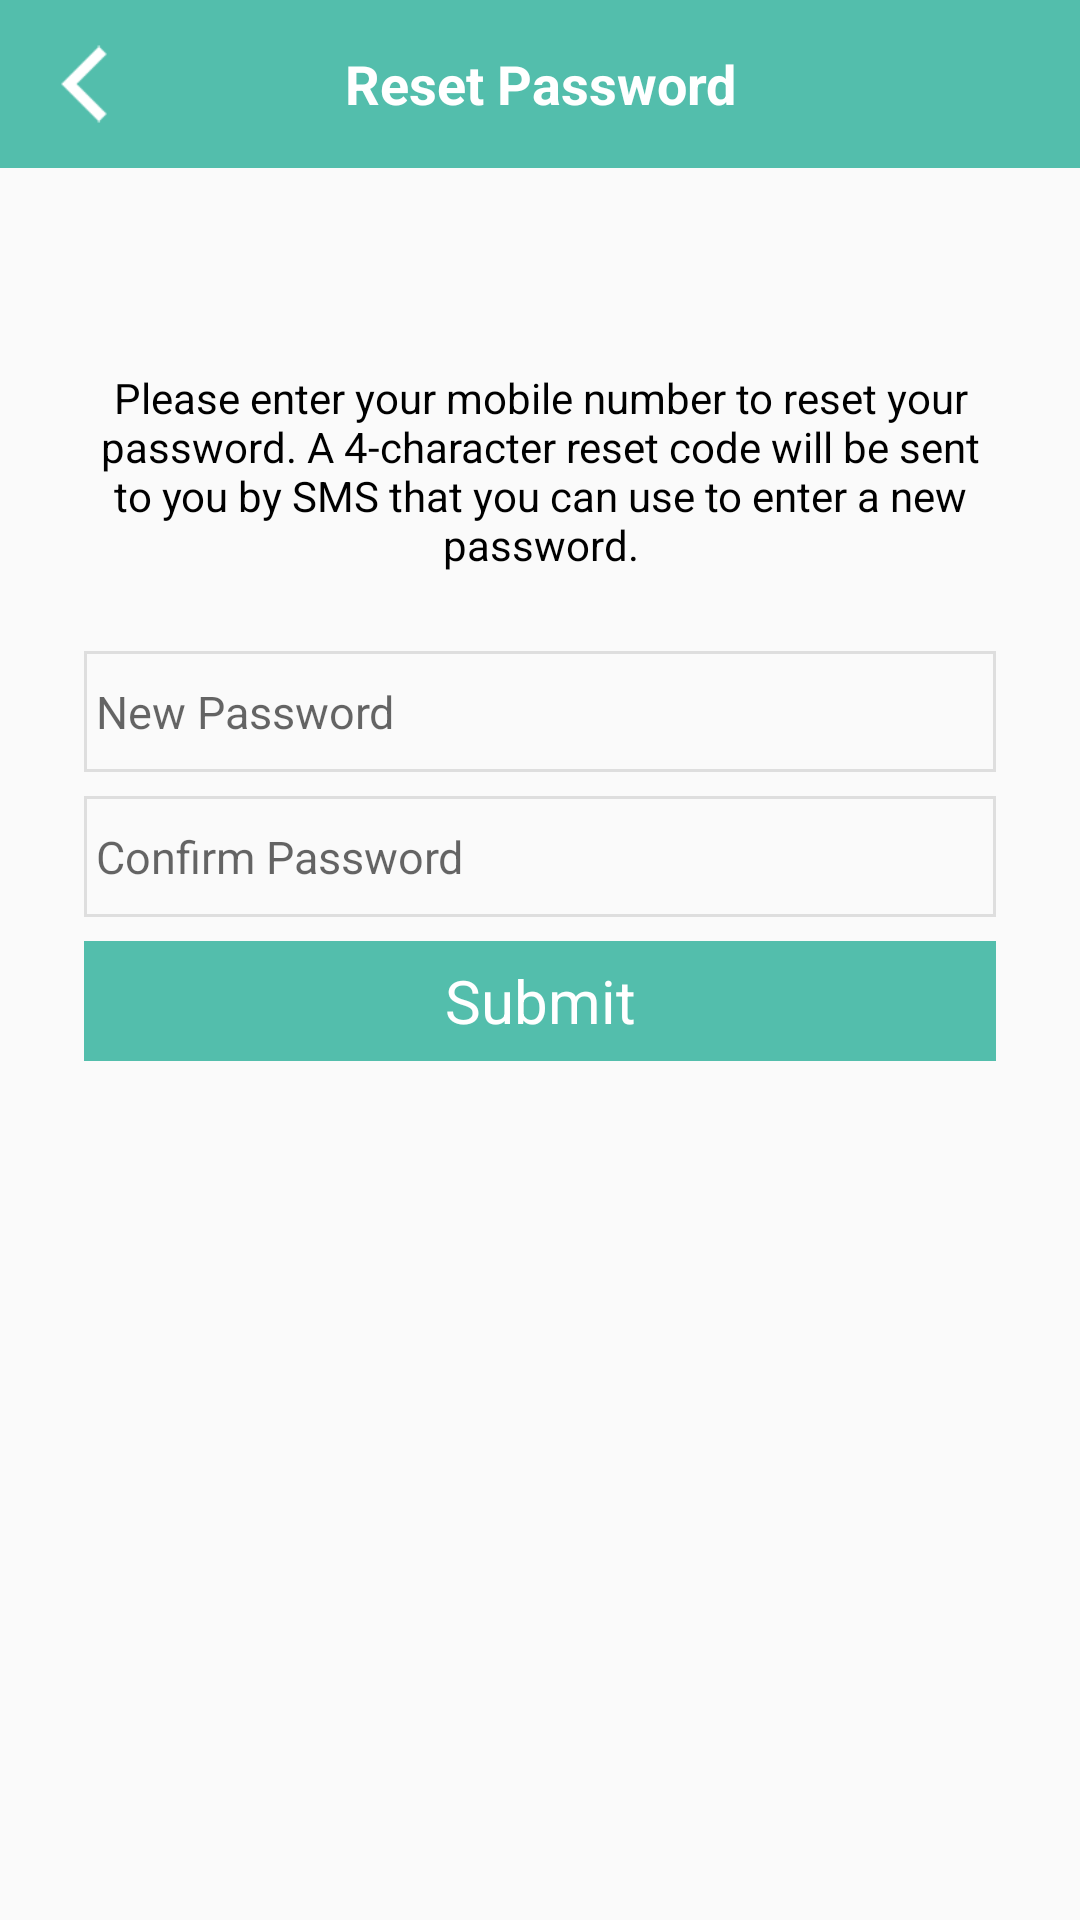

Icon bounding boxes for this 1080 × 1920 phone screenshot, format bbox=[x1, y1, x2, y2]:
back arrow: bbox=[61, 45, 107, 123]
